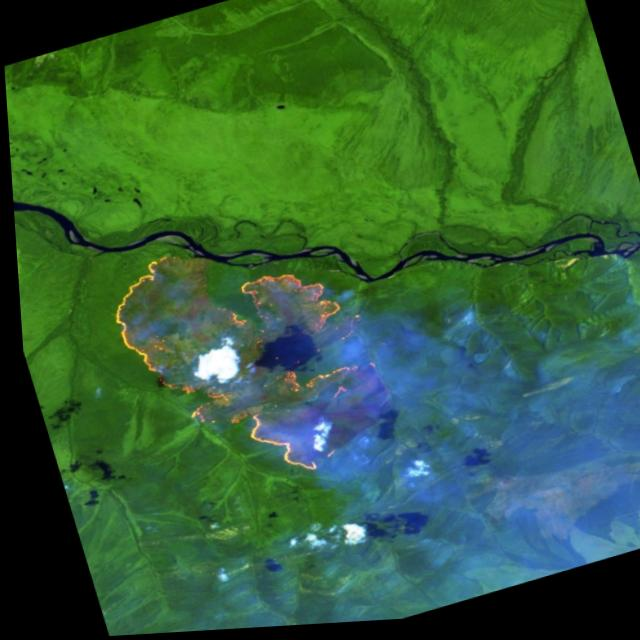fire: (88, 204, 401, 518)
